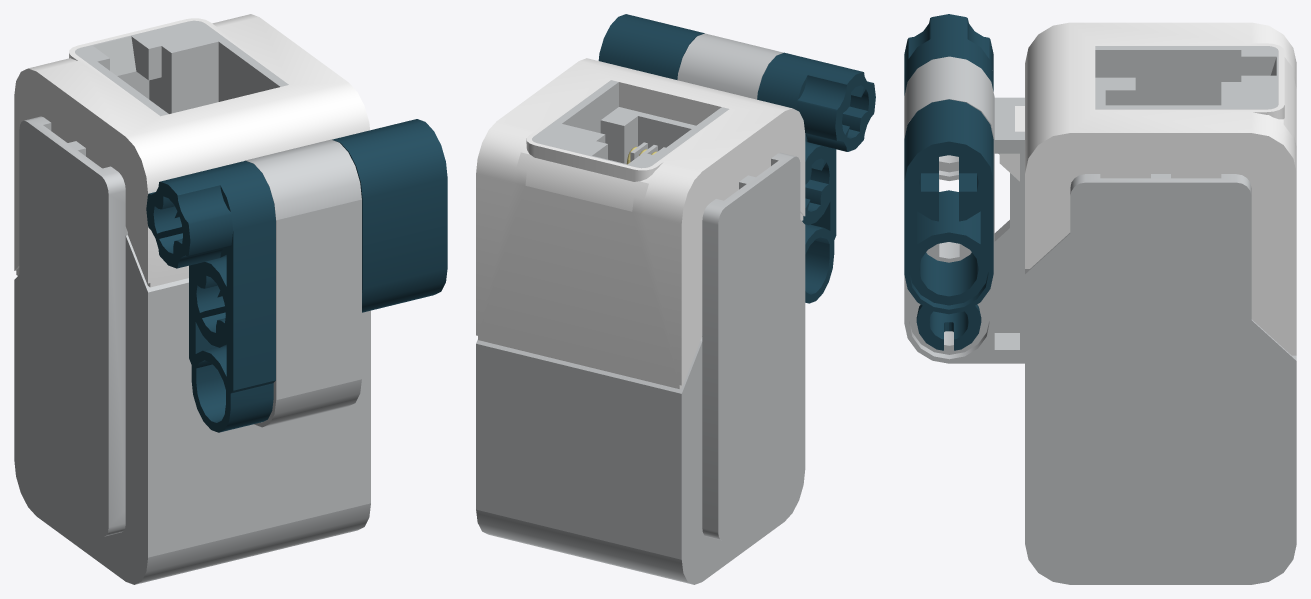
File: ev3_Color.glb
3 renders of one model, left to right at view 1: azimuth 30°, elevation 25°; view 2: azimuth 150°, elevation 25°; view 3: azimuth 270°, elevation 25°, orthographic. The views are drawn at different scales.
Parts seen in each view (by area): view 1: EV3_Color; view 2: EV3_Color; view 3: EV3_Color.
Boxes of the visible parts, bbox=[...] form: EV3_Color: bbox=[14, 14, 447, 584]; EV3_Color: bbox=[476, 14, 875, 584]; EV3_Color: bbox=[904, 14, 1296, 584].
Bounding box in the file's own units: 2.39 × 3.95 × 3.11.
